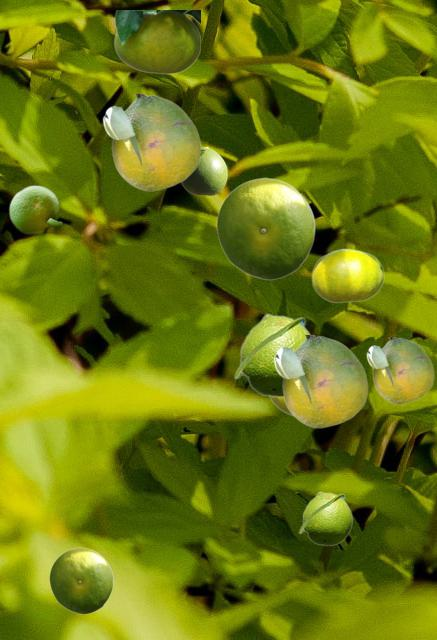dalandan: (216, 177, 314, 279), (102, 94, 200, 190), (273, 335, 367, 427), (233, 313, 311, 397), (114, 10, 199, 73), (366, 337, 433, 403), (49, 547, 112, 613), (311, 248, 383, 302), (298, 491, 352, 545), (8, 184, 62, 234), (181, 147, 226, 194), (268, 397, 292, 416)
